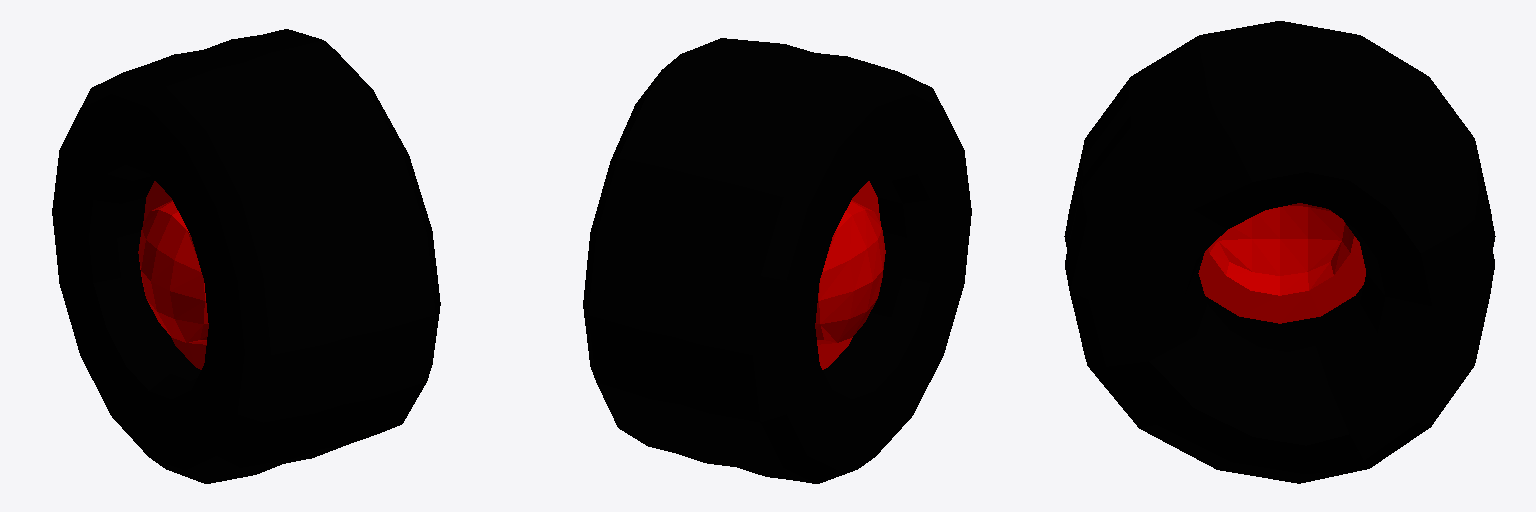
File: volvo-rear-tire.obj
3 views of the same model, side by side, from view 1: azimuth 30°, elevation 25°; view 2: azimuth 150°, elevation 25°; view 3: azimuth 270°, elevation 25° (orthographic).
Visible parts, largest first — view 1: Circle_Circle.006; view 2: Circle_Circle.006; view 3: Circle_Circle.006.
Part boxes in pixels (x1,y1,x2,y2): Circle_Circle.006: (52,29,440,483); Circle_Circle.006: (583,38,971,483); Circle_Circle.006: (1064,21,1495,483).
Size of the model in its own units: 0.6377 by 1.08 by 1.08.